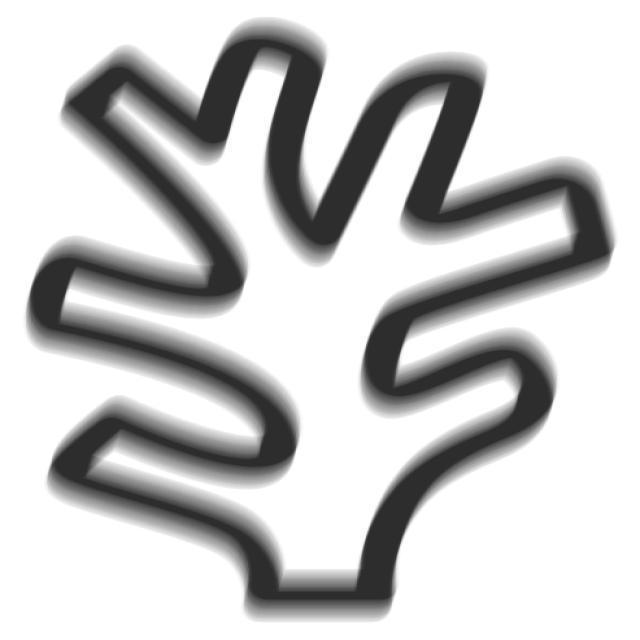coral: (17, 16, 625, 635)
